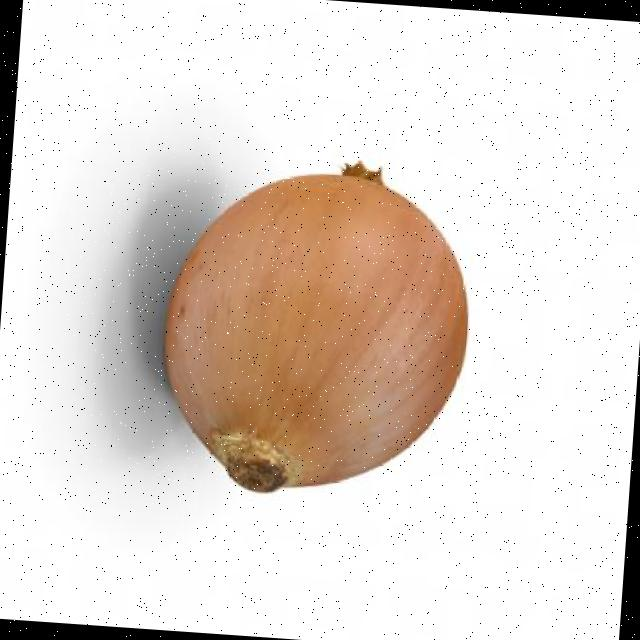Onion: (163, 162, 465, 493)
